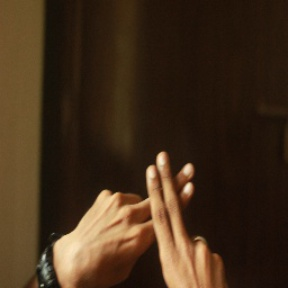F: (115, 142, 218, 272)
